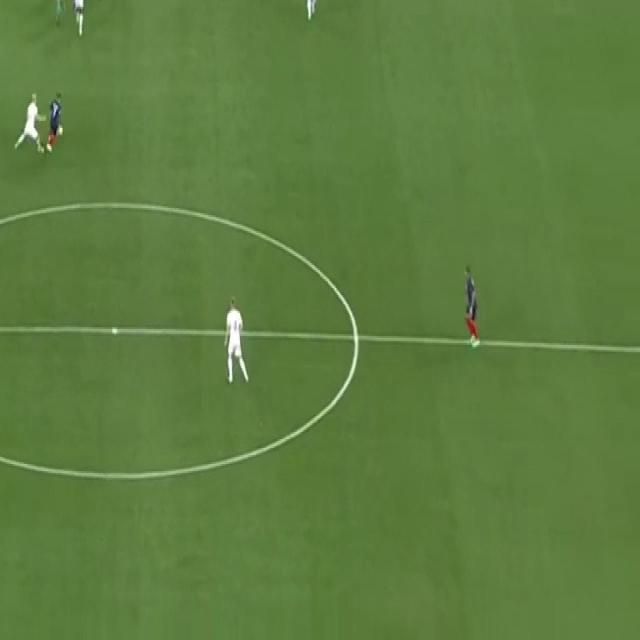ball: (56, 123, 64, 137)
player-white: (222, 295, 250, 385), (14, 92, 45, 154), (463, 265, 481, 349), (45, 91, 63, 153), (70, 0, 87, 38), (48, 0, 64, 25), (303, 0, 320, 22), (92, 0, 107, 2)
